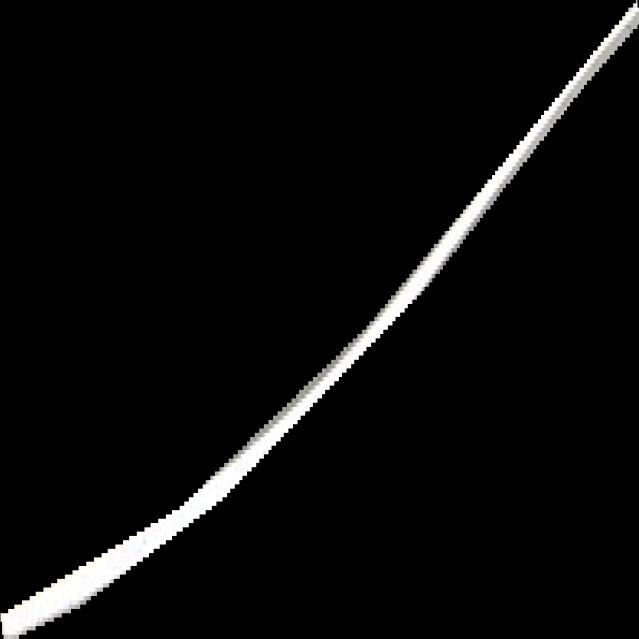lane: (0, 1, 639, 639)
